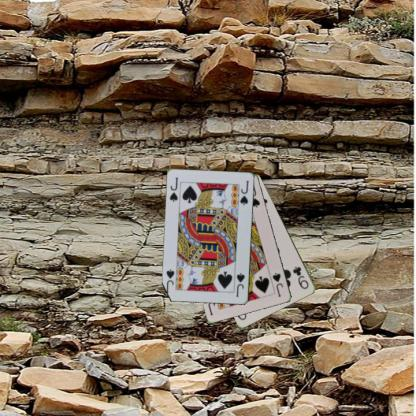9c: (290, 264, 310, 291)
Js: (270, 270, 285, 298), (167, 175, 179, 203), (234, 271, 246, 298)
